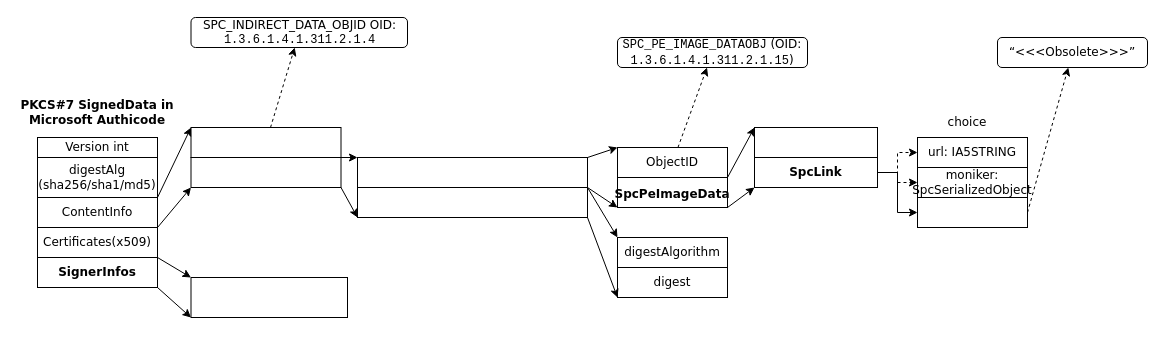
This 1165x343 diagram has some shape labels left out. Here are the shapes that lost their labels. From the top down, the box of each, then its label:
(190, 126, 341, 158): contentType
(754, 126, 878, 158): SpcPeImageFlags
(190, 156, 341, 188): SpcIndirectDataContent
(356, 156, 588, 188): SpcAttributeTypeAndOptionalValue
(356, 186, 588, 218): DigestInfo
(916, 196, 1028, 228): file: SpcString
(190, 276, 348, 318): should contain only one PKCS #7 SignerInfo
